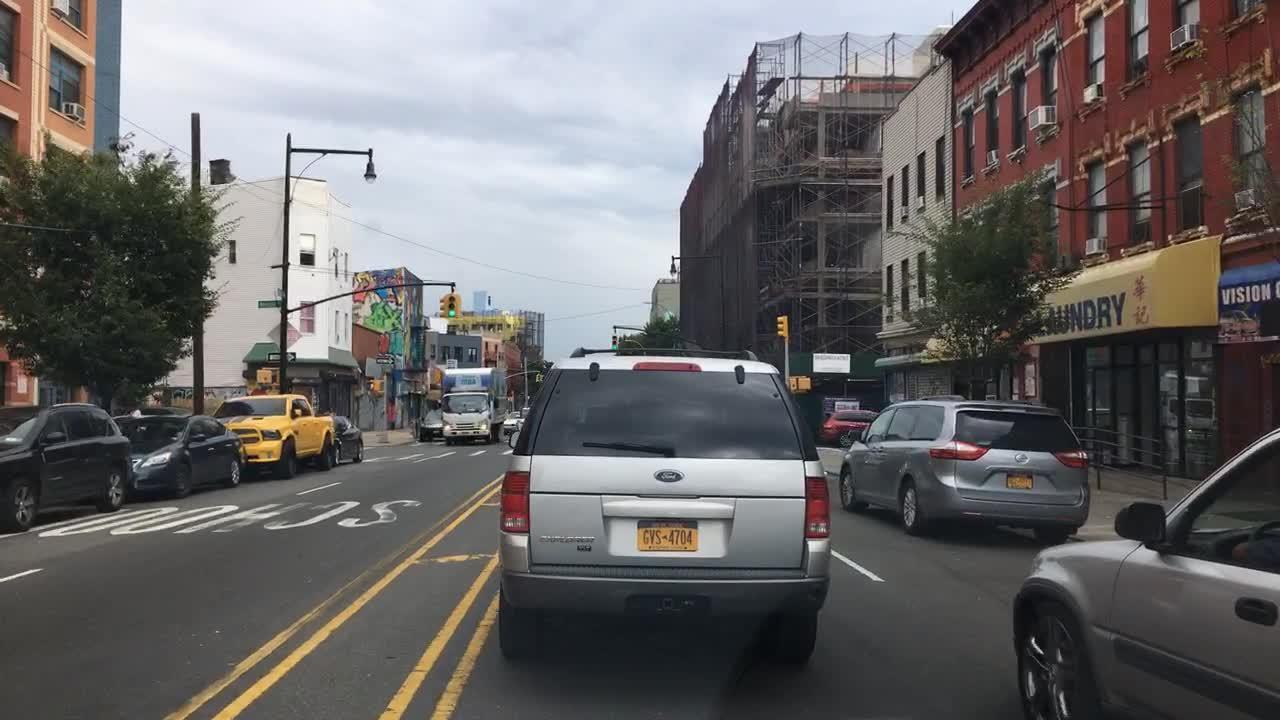ford: (654, 466, 684, 488)
